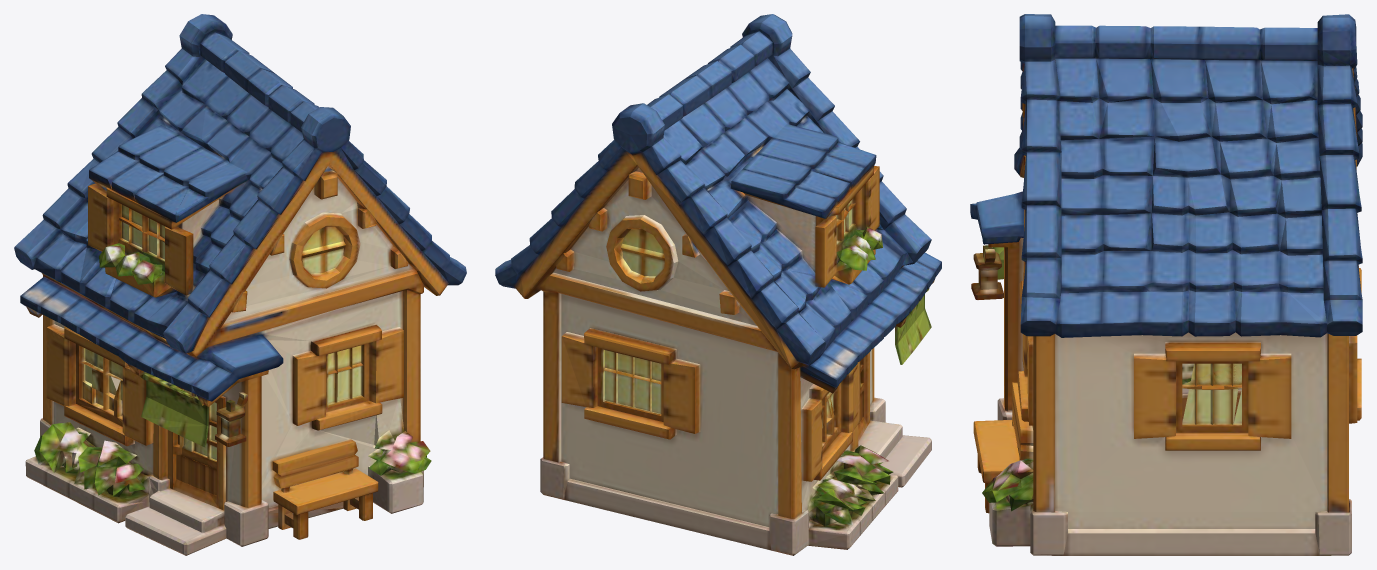
The model's file is cottage-Be7K95d6.glb.
The picture shows the model from 3 angles, left to right: view 1: azimuth 30°, elevation 25°; view 2: azimuth 150°, elevation 25°; view 3: azimuth 270°, elevation 25°; orthographic projection. The views are drawn at different scales.
Parts seen in each view (by area): view 1: tripo_node_0216c7b1-4504-4a74-92c5-480a0591eb38; view 2: tripo_node_0216c7b1-4504-4a74-92c5-480a0591eb38; view 3: tripo_node_0216c7b1-4504-4a74-92c5-480a0591eb38.
Part boxes in pixels (x1=…): tripo_node_0216c7b1-4504-4a74-92c5-480a0591eb38: x1=14, y1=14, x2=466, y2=555; tripo_node_0216c7b1-4504-4a74-92c5-480a0591eb38: x1=495, y1=14, x2=941, y2=555; tripo_node_0216c7b1-4504-4a74-92c5-480a0591eb38: x1=970, y1=14, x2=1362, y2=555.
Bounding box in the file's own units: 0.8367 × 0.9784 × 0.7161.
1 material, 1 textured.
